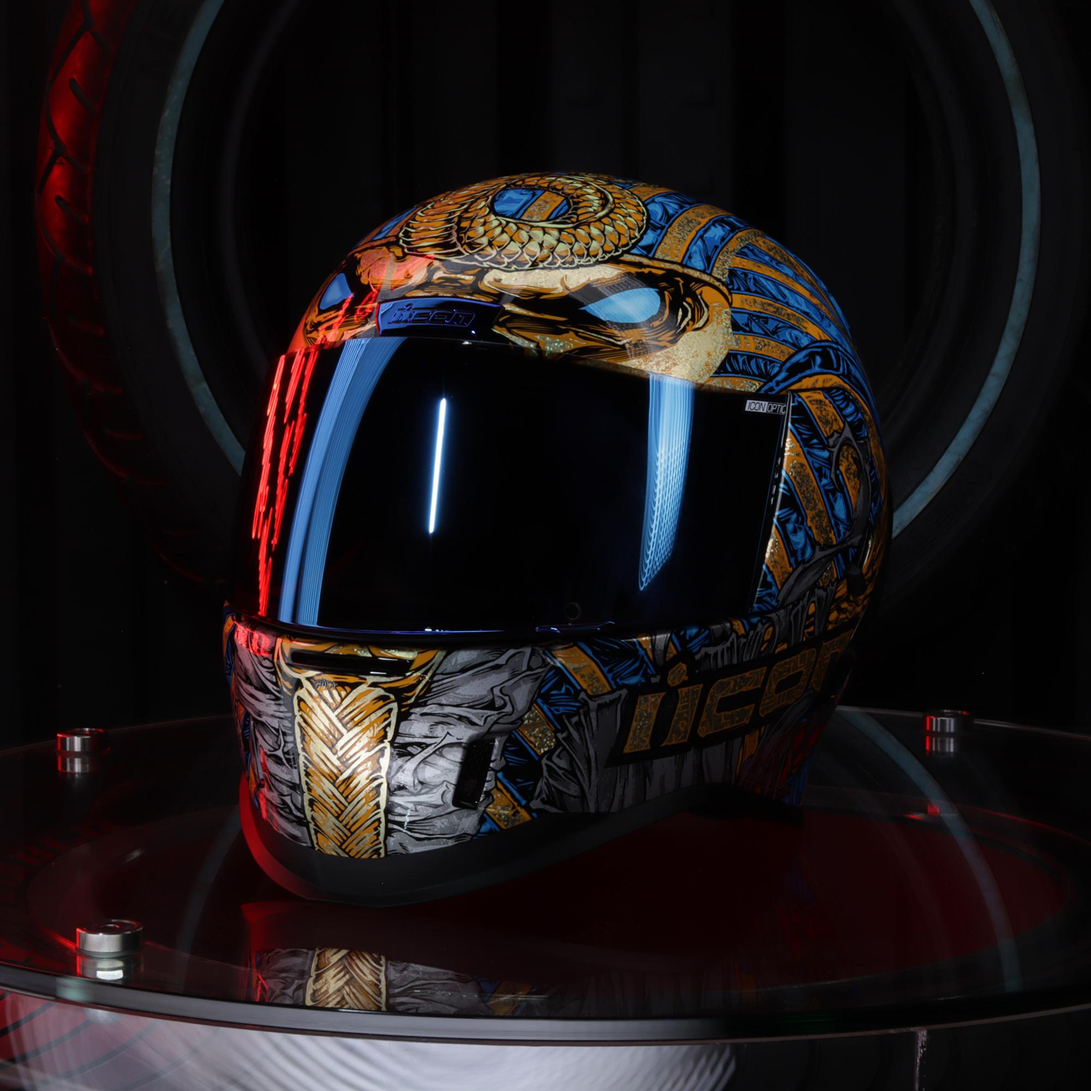helmet: (217, 166, 898, 904)
